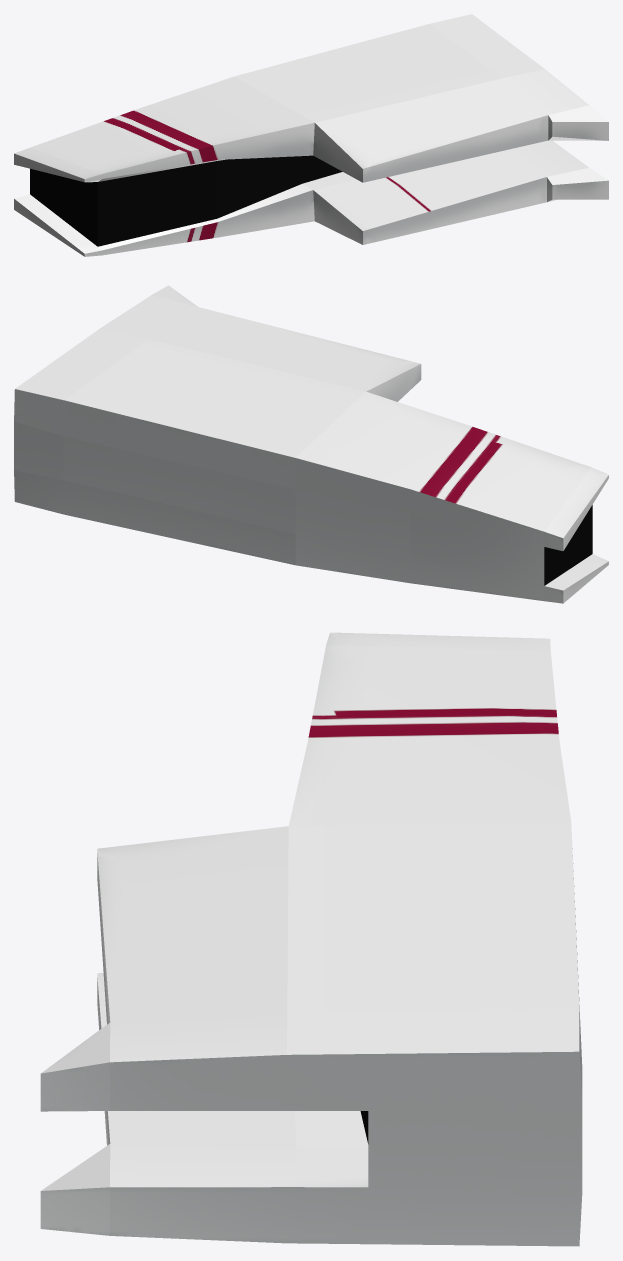
File: astronautDoorSide 1.fbx
3 renders of one model, top to bottom at view 1: azimuth 30°, elevation 25°; view 2: azimuth 150°, elevation 25°; view 3: azimuth 270°, elevation 25°, orthographic. The views are drawn at different scales.
Parts seen in each view (by area): view 1: polySurface3; view 2: polySurface3; view 3: polySurface3.
Boxes of the visible parts, bbox=[...] form: polySurface3: bbox=[14, 14, 608, 256]; polySurface3: bbox=[14, 285, 608, 603]; polySurface3: bbox=[40, 632, 582, 1246].
Size of the model in its own units: 7.76 by 1.56 by 3.89.
Materials: 1 (1 with a texture image).
